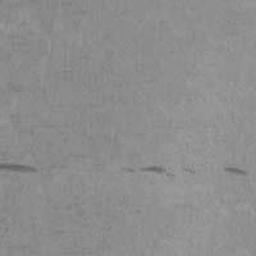Oil spot: (119, 163, 178, 180), (223, 154, 255, 178), (0, 160, 40, 174), (180, 166, 196, 175)
